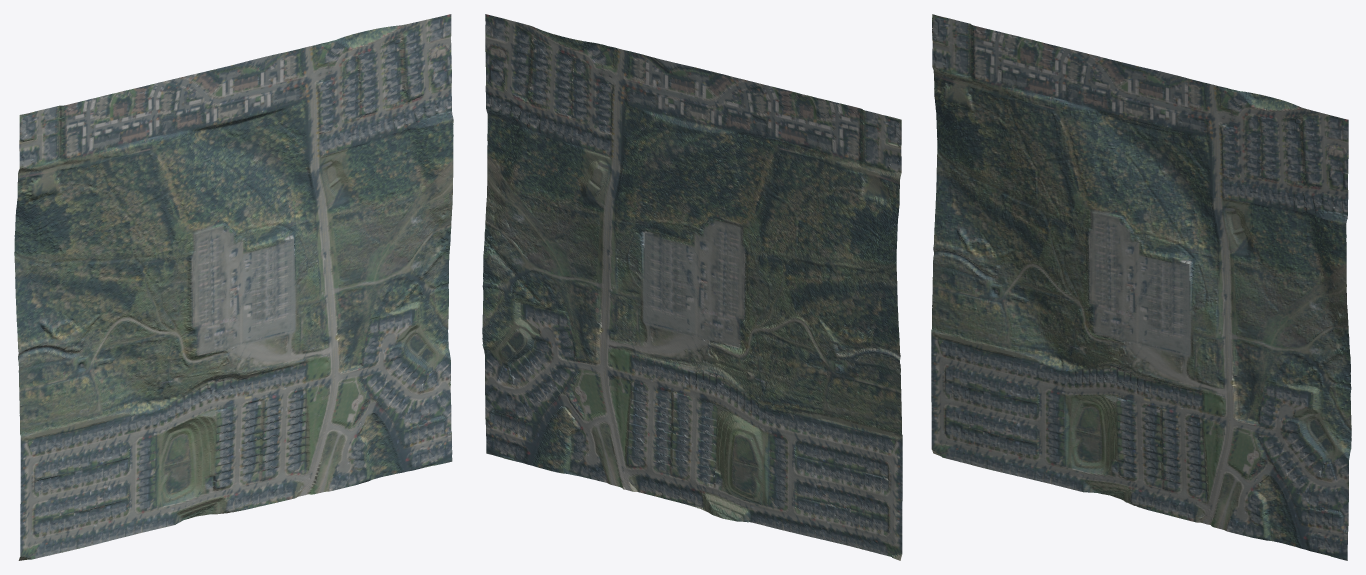
File: white_river_ground_naip.glb
The picture shows the model from 3 angles, left to right: view 1: azimuth 30°, elevation 25°; view 2: azimuth 150°, elevation 25°; view 3: azimuth 330°, elevation 25°; orthographic projection.
Parts seen in each view (by area): view 1: geometry_0; view 2: geometry_0; view 3: geometry_0.
Part boxes in pixels (x1,y1,x2,y2): geometry_0: (14,14,453,560); geometry_0: (482,14,902,560); geometry_0: (931,14,1351,560).
Bounding box in the file's own units: 798 × 798 × 40.57.
